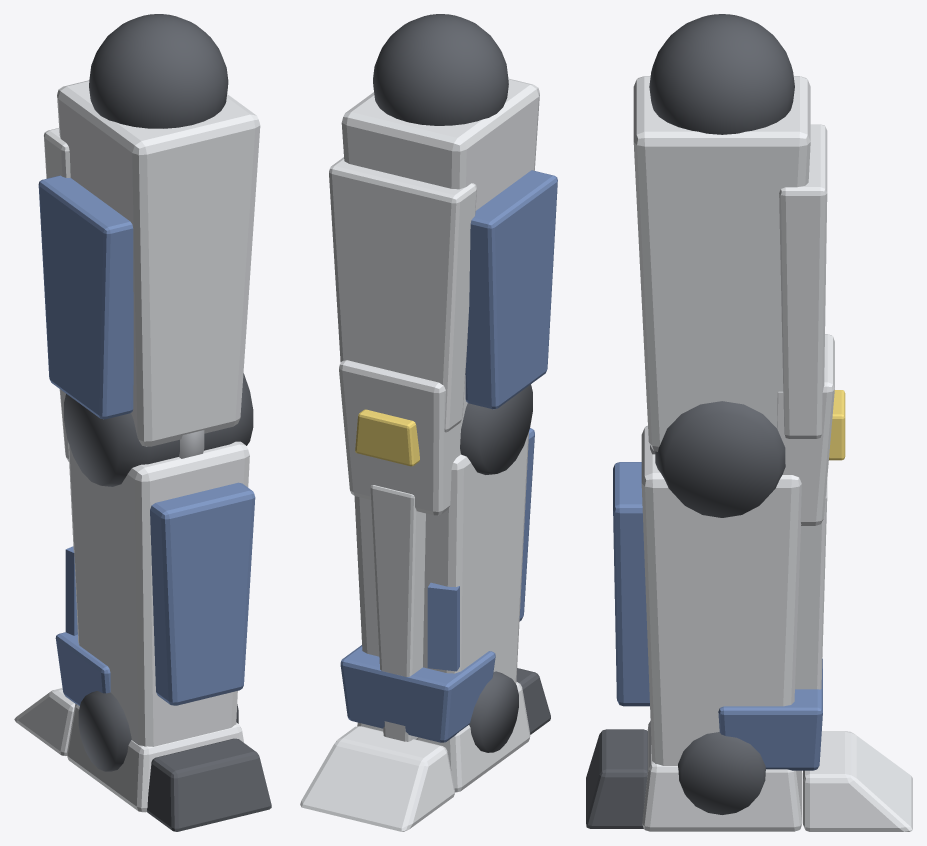
File: leg_general_l.glb
3 views of the same model, side by side, from view 1: azimuth 30°, elevation 25°; view 2: azimuth 150°, elevation 25°; view 3: azimuth 270°, elevation 25° (orthographic). The views are drawn at different scales.
Parts seen in each view (by area): view 1: thigh, shin, calf, thigh_side, hip_joint, heel, knee, foot, ankle, ankle_guard, toe, thigh_front (+2 smaller); view 2: thigh_front, shin, thigh_side, thigh, hip_joint, toe, knee_cap, shin_ridge, ankle_guard, knee, foot, ankle (+4 smaller); view 3: thigh, shin, hip_joint, thigh_front, knee, toe, calf, foot, ankle_guard, heel, ankle, shin_ridge (+2 smaller).
Part boxes in pixels (x1,y1,x2,y2): thigh: (57,80,260,446); shin: (68,441,249,746); calf: (150,482,255,705); thigh_side: (38,175,133,419); hip_joint: (89,14,228,128); heel: (147,738,271,831); knee: (64,373,253,486); foot: (67,704,243,812); ankle: (78,691,238,771); ankle_guard: (55,632,110,705); toe: (14,688,75,755); thigh_front: (44,128,70,178); thigh_front: (329,157,476,432); shin: (354,432,528,683); thigh_side: (465,170,557,409); thigh: (341,78,539,407); hip_joint: (373,14,508,125); toe: (300,726,454,831); knee_cap: (339,360,465,515); shin_ridge: (370,485,425,741); ankle_guard: (340,645,495,742); knee: (460,384,532,474); foot: (357,682,530,792); ankle: (469,671,518,752); thigh: (633,76,810,451); shin: (641,425,801,765); hip_joint: (649,14,794,134); thigh_front: (779,124,827,438); knee: (655,401,785,517); toe: (803,731,912,831); calf: (613,462,649,706); foot: (642,721,802,831); ankle_guard: (718,658,822,770); heel: (586,729,647,828); ankle: (678,732,765,814); shin_ridge: (795,481,827,689).
Size of the model in its own units: 1.95 by 9.09 by 3.43.
